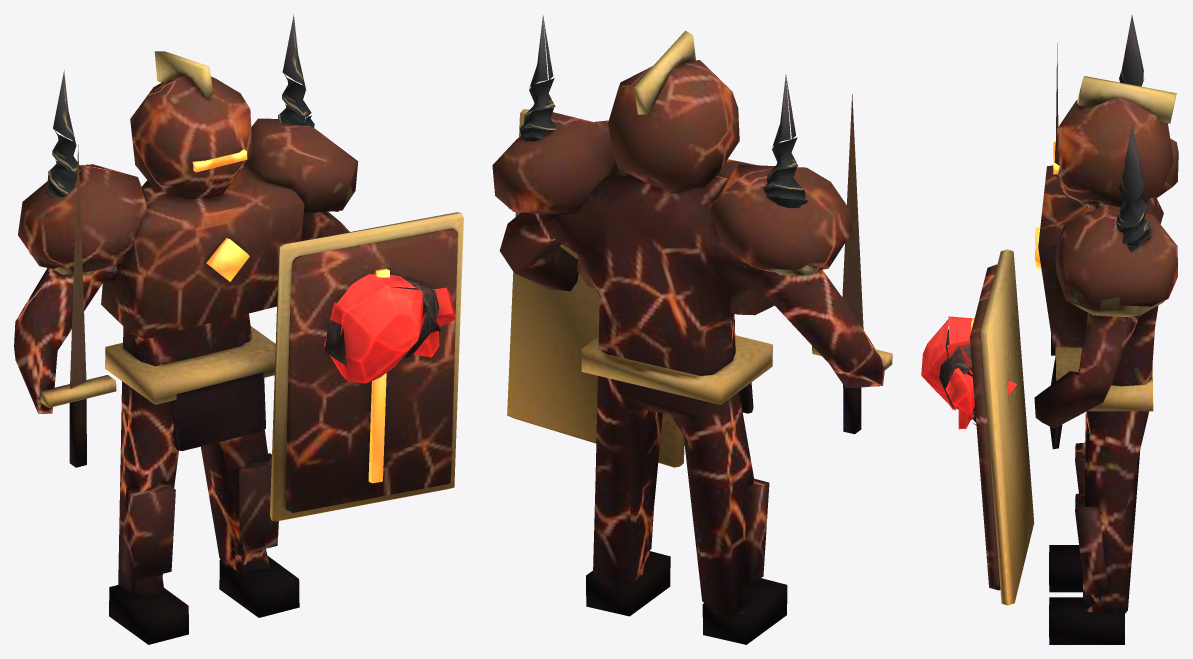
File: u_vanguard_x_g.glb
The picture shows the model from 3 angles, left to right: view 1: azimuth 30°, elevation 25°; view 2: azimuth 150°, elevation 25°; view 3: azimuth 270°, elevation 25°; orthographic projection. The views are drawn at different scales.
Parts seen in each view (by area): view 1: u_vanguard_x; view 2: u_vanguard_x; view 3: u_vanguard_x.
Boxes of the visible parts, x1,y1,x2,y2 form: u_vanguard_x: [14, 14, 463, 644]; u_vanguard_x: [492, 15, 892, 644]; u_vanguard_x: [921, 15, 1178, 644].
Bounding box in the file's own units: 1.76 × 2.4 × 1.04.
Materials: 3 (3 with a texture image).
